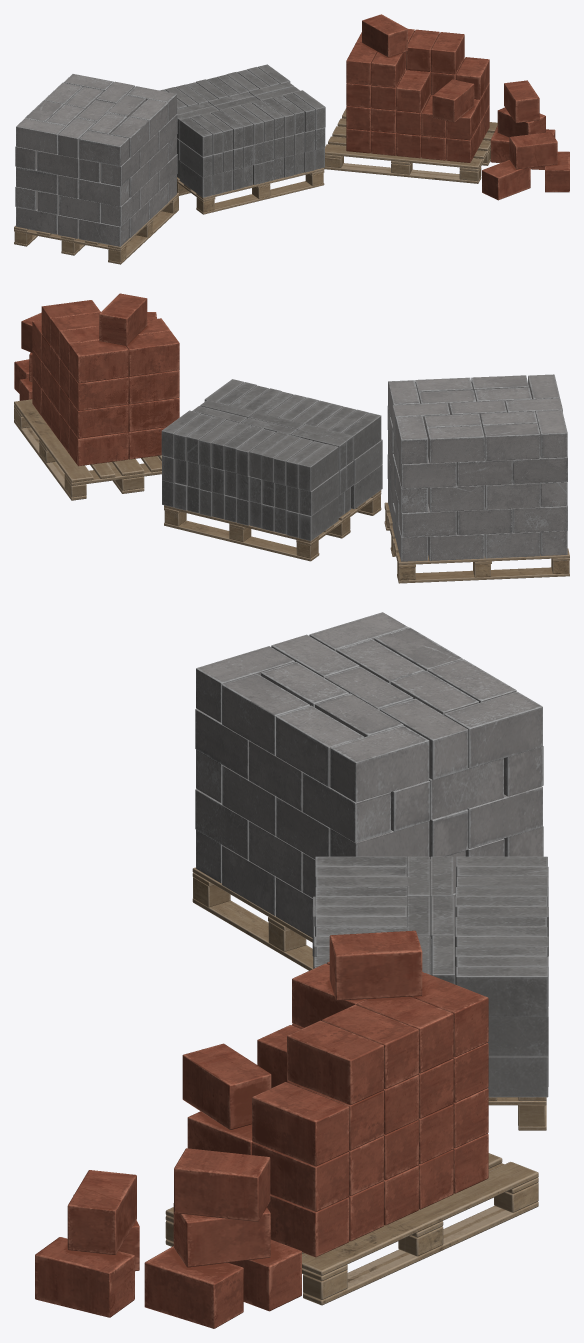
Rendered from blockset.glb.
The picture shows the model from 3 angles, top to bottom: view 1: azimuth 30°, elevation 25°; view 2: azimuth 150°, elevation 25°; view 3: azimuth 270°, elevation 25°; orthographic projection. The views are drawn at different scales.
Visible parts, largest first — view 1: brick_mesh, block_mesh.001, block_mesh, wood_mesh, wood_mesh.001, wood_mesh.002; view 2: block_mesh.001, block_mesh, brick_mesh, wood_mesh, wood_mesh.002, wood_mesh.001; view 3: brick_mesh, block_mesh.001, block_mesh, wood_mesh, wood_mesh.001, wood_mesh.002.
Part boxes in pixels (left/top/right/bottom): brick_mesh: left=346, top=14, right=569, bottom=200; block_mesh.001: left=15, top=74, right=177, bottom=246; block_mesh: left=160, top=64, right=325, bottom=197; wood_mesh: left=324, top=108, right=497, bottom=183; wood_mesh.001: left=14, top=193, right=178, bottom=264; wood_mesh.002: left=177, top=168, right=324, bottom=214; block_mesh.001: left=387, top=374, right=567, bottom=561; block_mesh: left=161, top=379, right=382, bottom=540; brick_mesh: left=14, top=293, right=179, bottom=466; wood_mesh: left=14, top=399, right=161, bottom=500; wood_mesh.002: left=164, top=490, right=381, bottom=561; wood_mesh.001: left=384, top=502, right=569, bottom=583; brick_mesh: left=35, top=930, right=488, bottom=1328; block_mesh.001: left=195, top=612, right=543, bottom=938; block_mesh: left=312, top=856, right=548, bottom=1097; wood_mesh: left=165, top=1153, right=538, bottom=1305; wood_mesh.001: left=192, top=867, right=313, bottom=970; wood_mesh.002: left=488, top=1097, right=546, bottom=1130.
Size of the model in its own units: 4.47 by 1.12 by 2.
6 materials, 6 textured.
